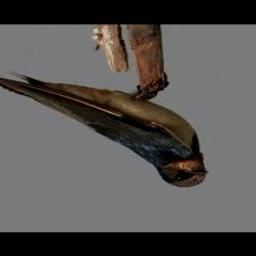Swallow: (0, 74, 208, 186)
